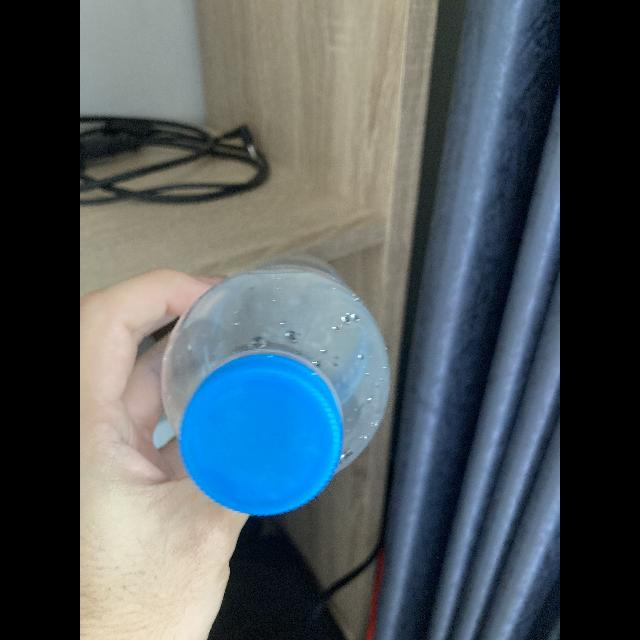plastic_bottle: (158, 242, 394, 518)
plastic_bottle_cap: (175, 347, 343, 516)
